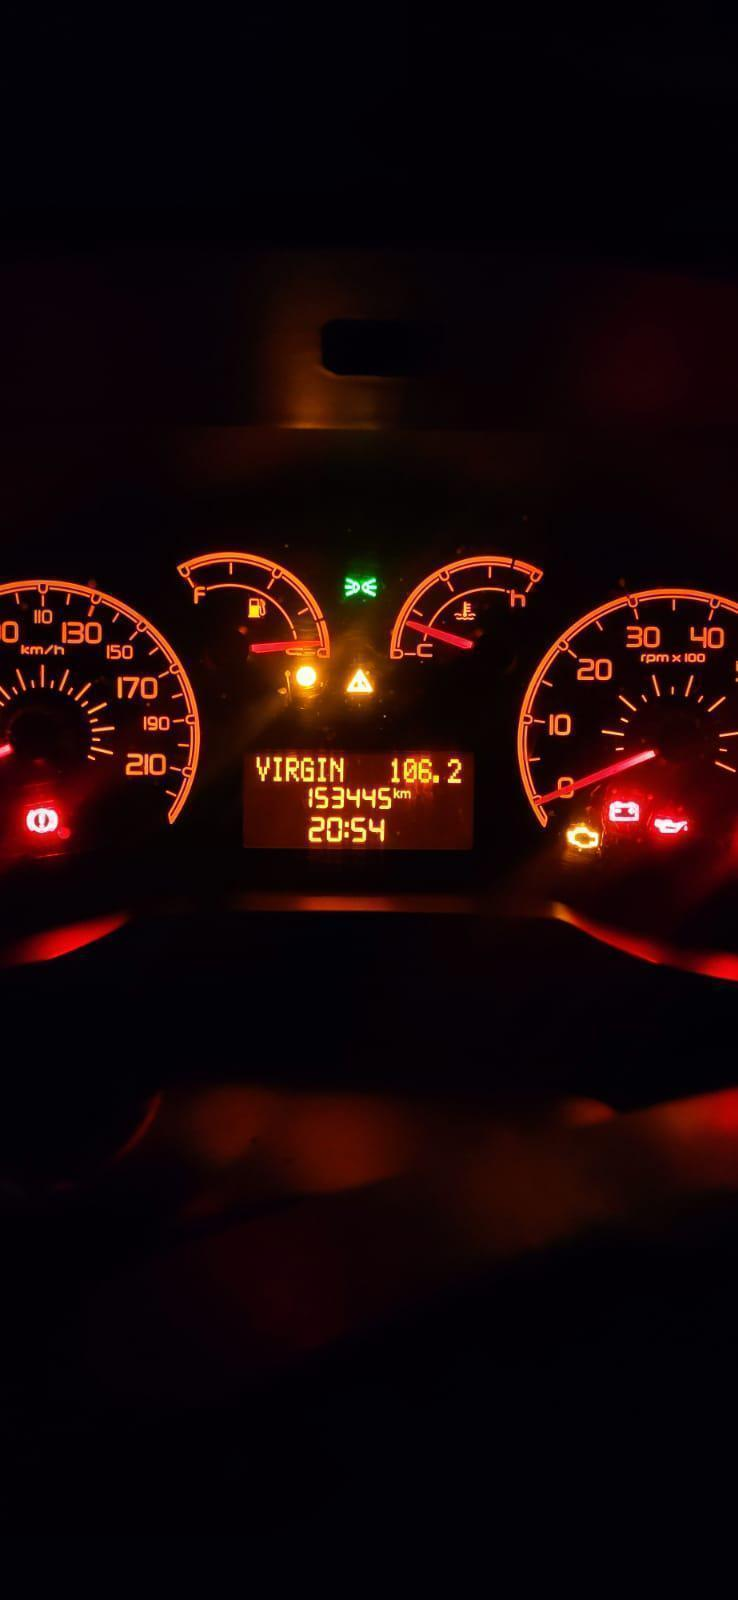,: (431, 772, 441, 787)
0: (327, 816, 342, 844), (403, 755, 417, 783)
1: (389, 757, 401, 783), (305, 785, 313, 810)
2: (446, 757, 464, 786), (307, 814, 325, 843)
3: (331, 785, 344, 810)
4: (368, 816, 387, 842), (345, 786, 360, 810), (361, 787, 376, 809)
5: (350, 815, 366, 844), (378, 786, 391, 811), (315, 785, 327, 809)
6: (419, 757, 431, 784)
X: (330, 753, 346, 783), (254, 752, 269, 783), (285, 754, 298, 784), (301, 755, 314, 783), (273, 754, 283, 785), (317, 754, 325, 785), (343, 819, 349, 840), (400, 789, 413, 798), (392, 786, 399, 799)
odometer: (238, 745, 477, 859)
